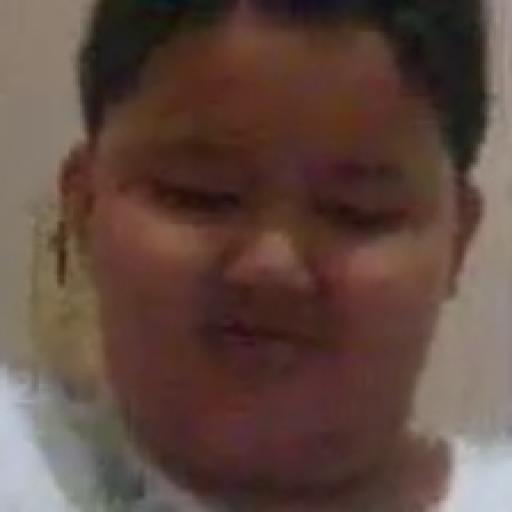Autism: (66, 0, 498, 512)
